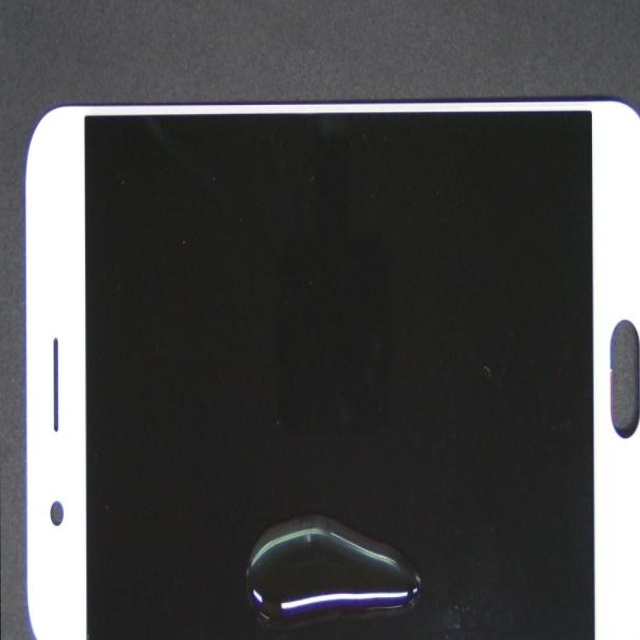oil: (203, 306, 629, 640)
